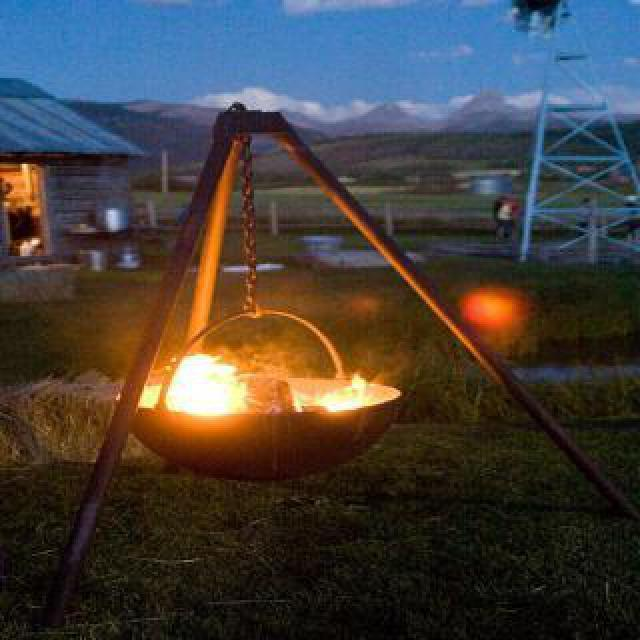Fire: (166, 340, 376, 420)
